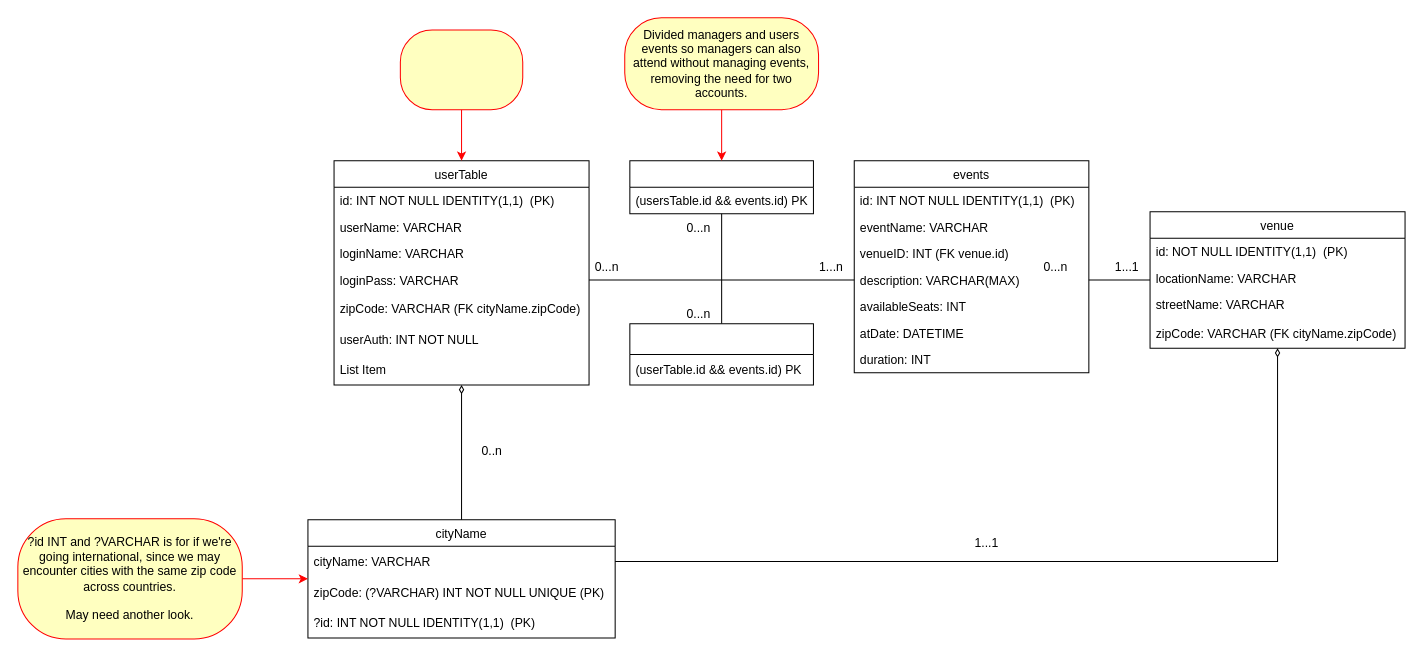
Image size: 1423x657. Some labels were removed from this diagram. Each missing label, with the box of its shape:
managerEvent: (629, 323, 813, 385)
userAuth 0 = user 1 = event coordinator 2 = admin: (399, 29, 523, 110)
userEvent: (629, 160, 813, 214)
